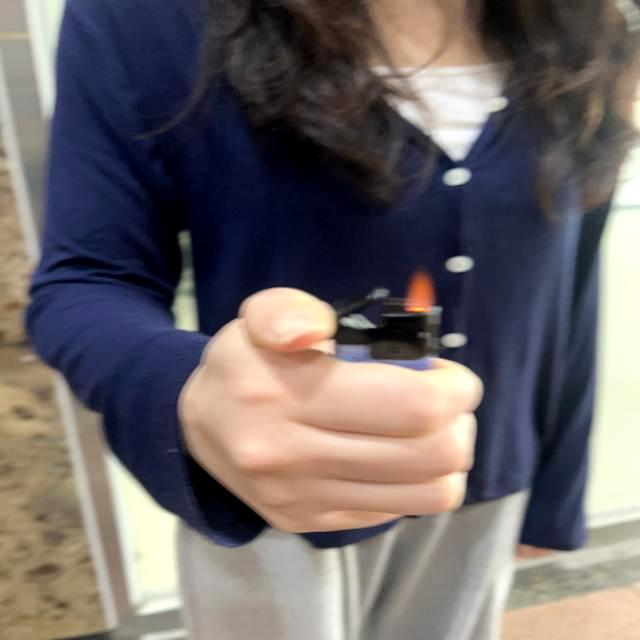fire: (406, 269, 438, 313)
